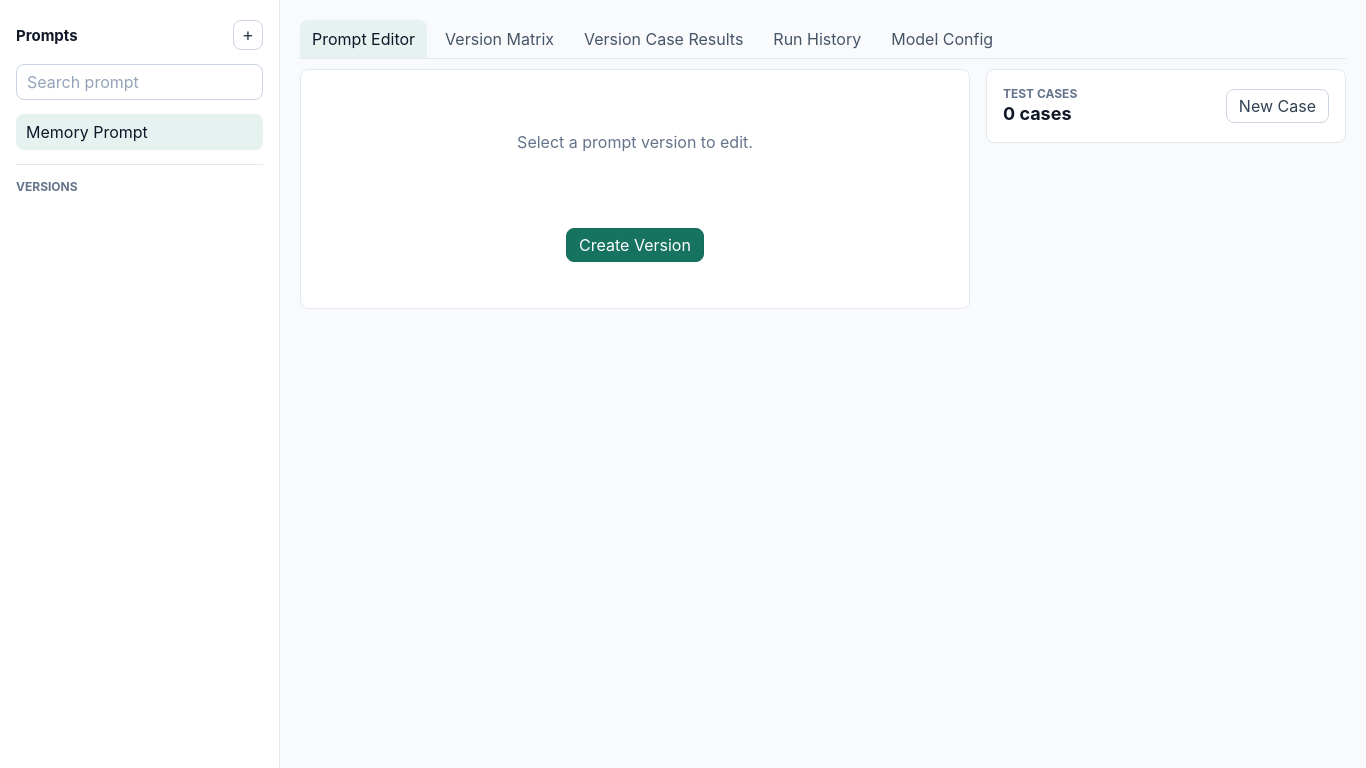
Test: App prompt creation › opens an in-app form when creating a prompt version
The width and height of the screenshot is (1366, 768).
Expected: the button "Memory Prompt" is shown, [16,114,263,150]
Click the button "Create Version" at (635, 245), box [566,228,704,262]
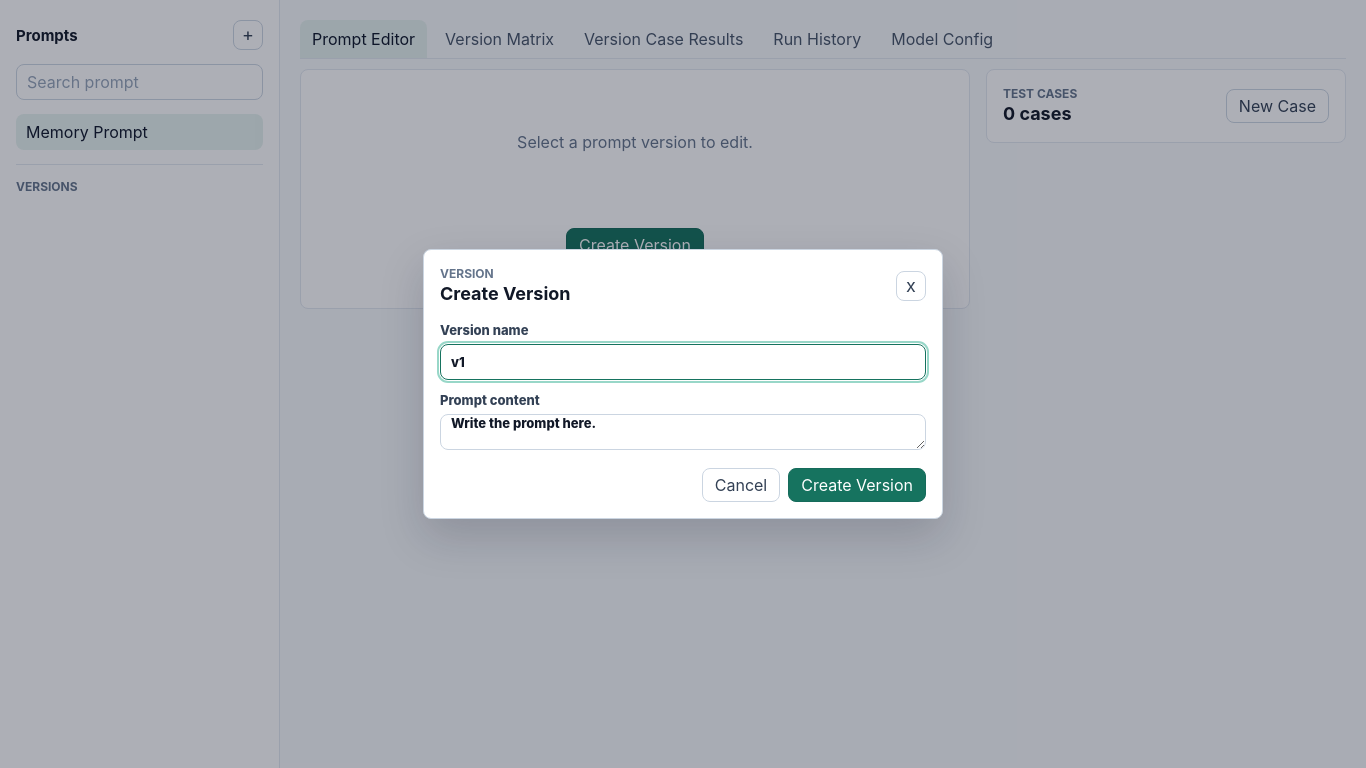
Result: the dialog "Create Version" is shown at [423,249,943,519]
Result: the field labelled "Version name" is shown at [440,344,926,380]
Result: the text box labelled "Prompt content" is shown at [440,414,926,450]
